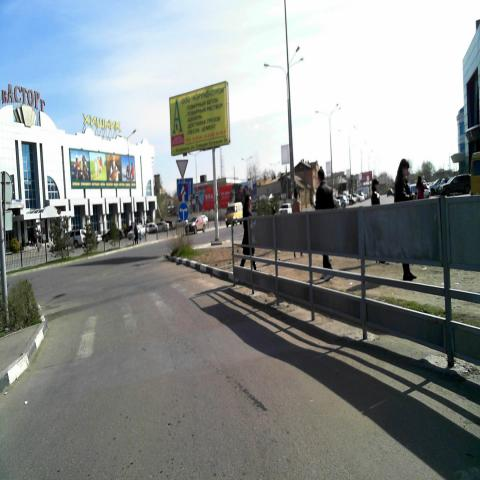4_1_6: (179, 203, 188, 221)
